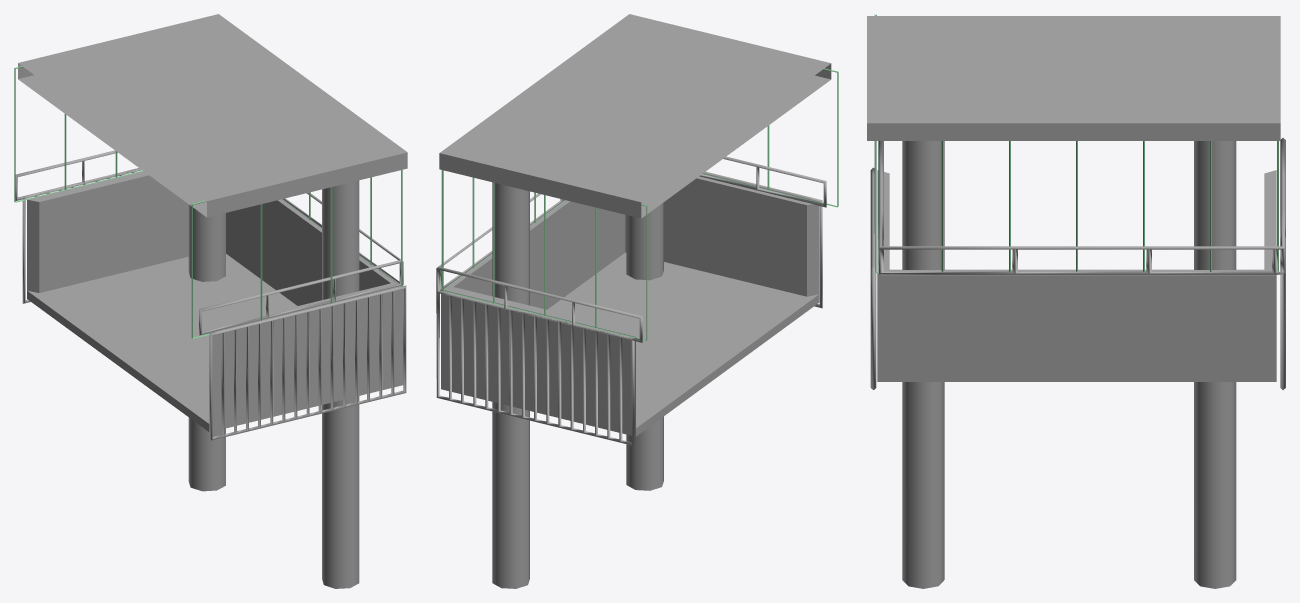
The model's file is haapalinna_ensimmainenparveke.fbx.
The picture shows the model from 3 angles, left to right: view 1: azimuth 30°, elevation 25°; view 2: azimuth 150°, elevation 25°; view 3: azimuth 270°, elevation 25°; orthographic projection. The views are drawn at different scales.
Parts seen in each view (by area): view 1: Plane; view 2: Plane; view 3: Plane.
Part boxes in pixels (x1,y1,x2,y2): Plane: (14, 14, 407, 588); Plane: (436, 14, 838, 588); Plane: (867, 14, 1285, 588).
Size of the model in its own units: 263 by 516 by 409.
